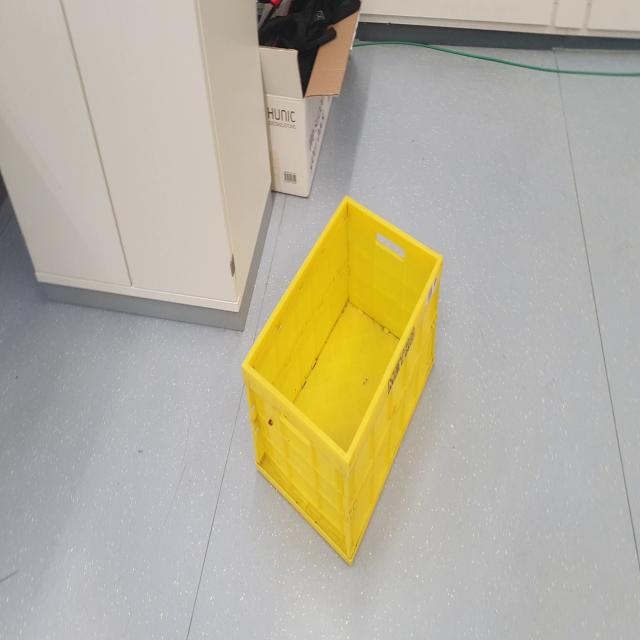box: (240, 176, 448, 571)
